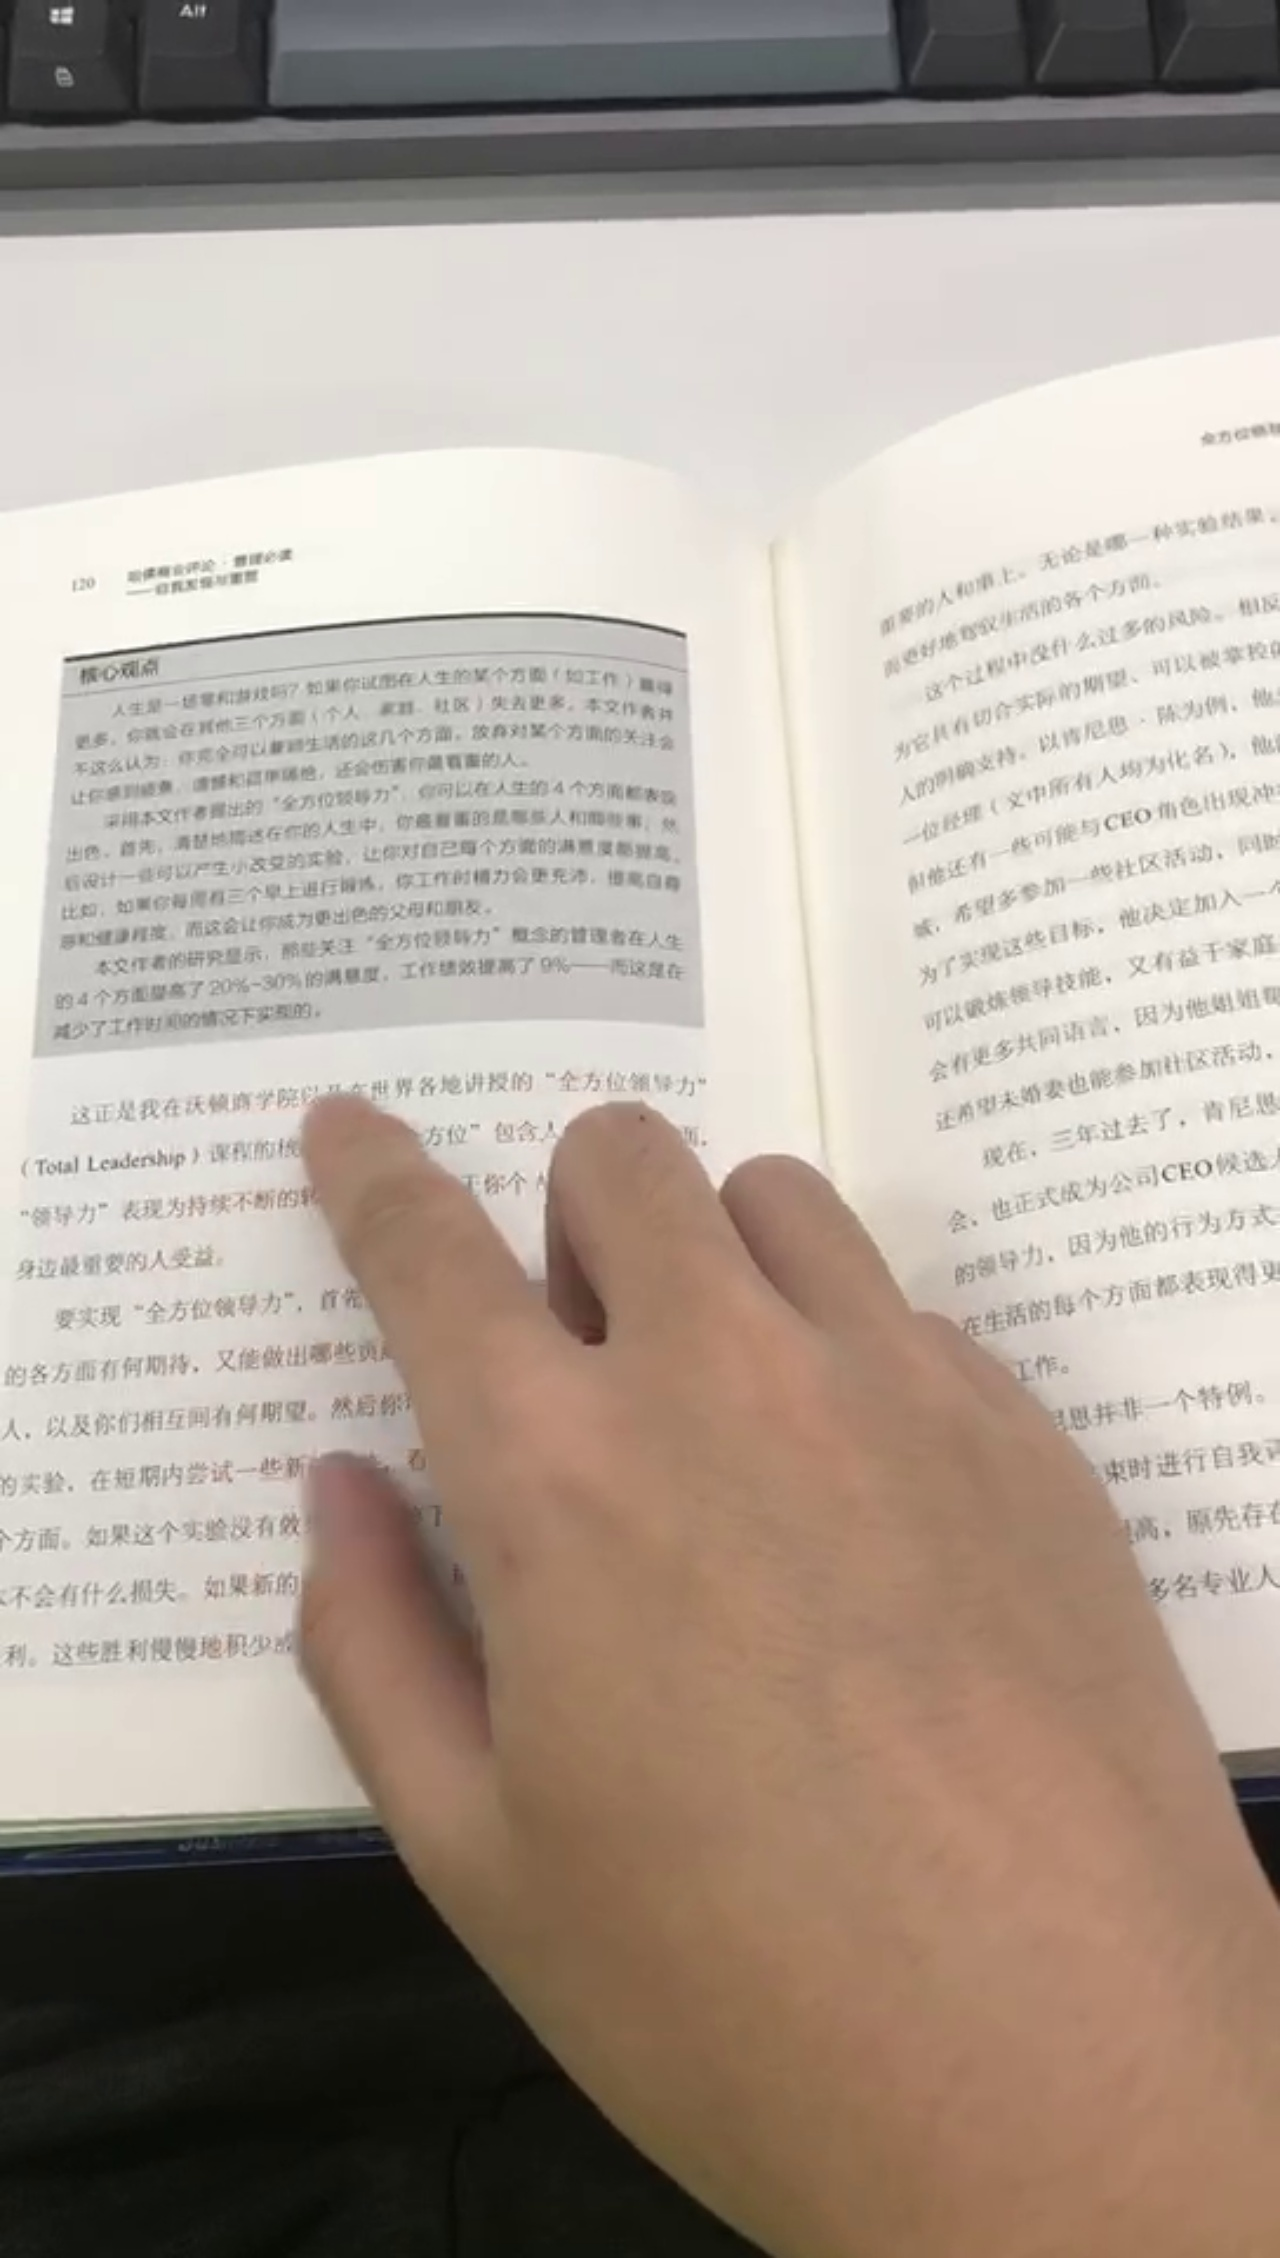finger0: (298, 1467, 338, 1563)
finger2: (309, 1093, 393, 1146)
